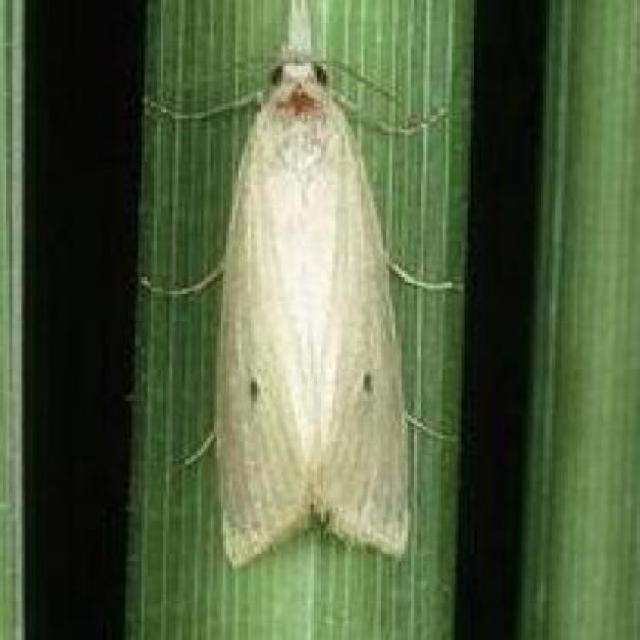stem-borer: (157, 0, 423, 571)
